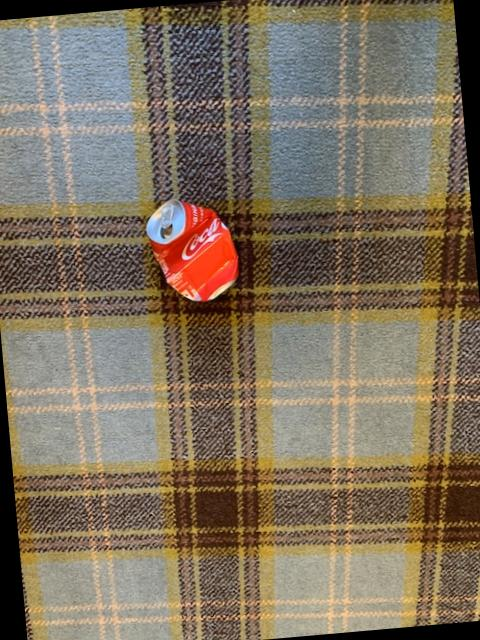metal: (145, 198, 236, 299)
